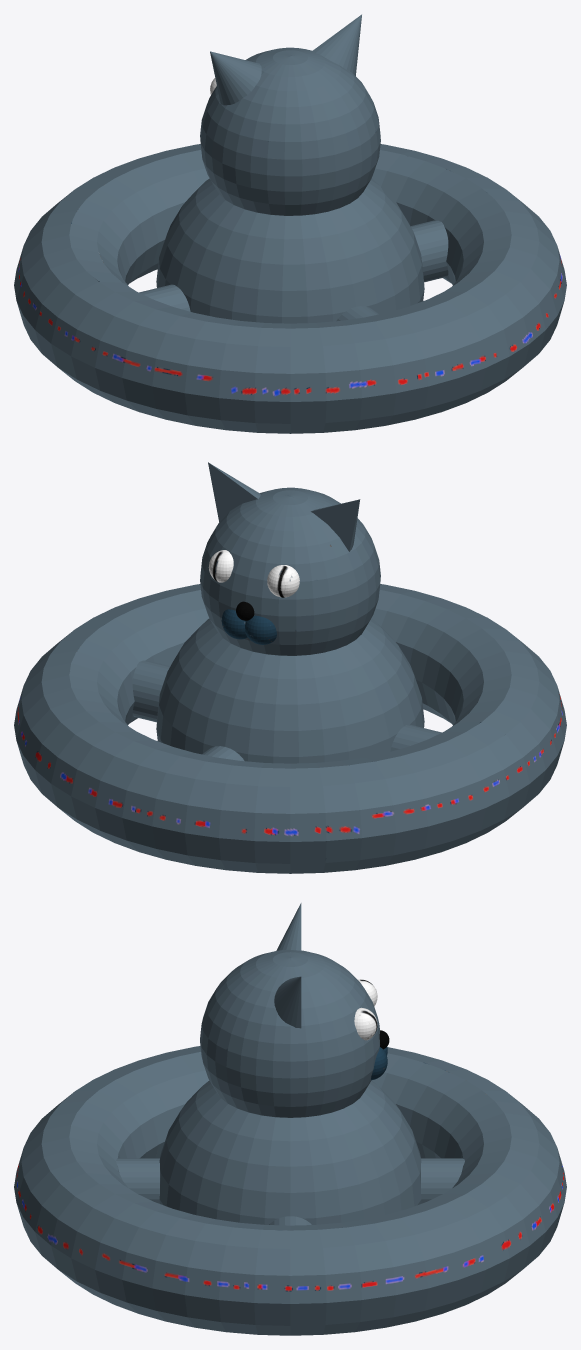
The model's file is StationRoboCat.obj.
3 views of the same model, one above another, from view 1: azimuth 30°, elevation 25°; view 2: azimuth 150°, elevation 25°; view 3: azimuth 270°, elevation 25° (orthographic).
Parts seen in each view (by area): view 1: Cone; view 2: Cone; view 3: Cone.
Boxes of the visible parts, x1,y1,x2,y2 form: Cone: (14,14,566,433); Cone: (14,462,566,873); Cone: (14,903,566,1335).
Size of the model in its own units: 11.49 by 8.49 by 11.49.
